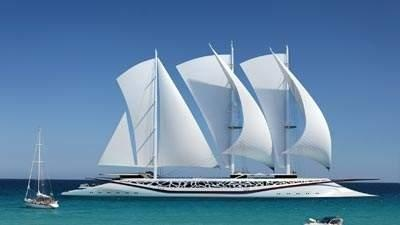fanchuan: (60, 36, 379, 199), (22, 127, 59, 208)
